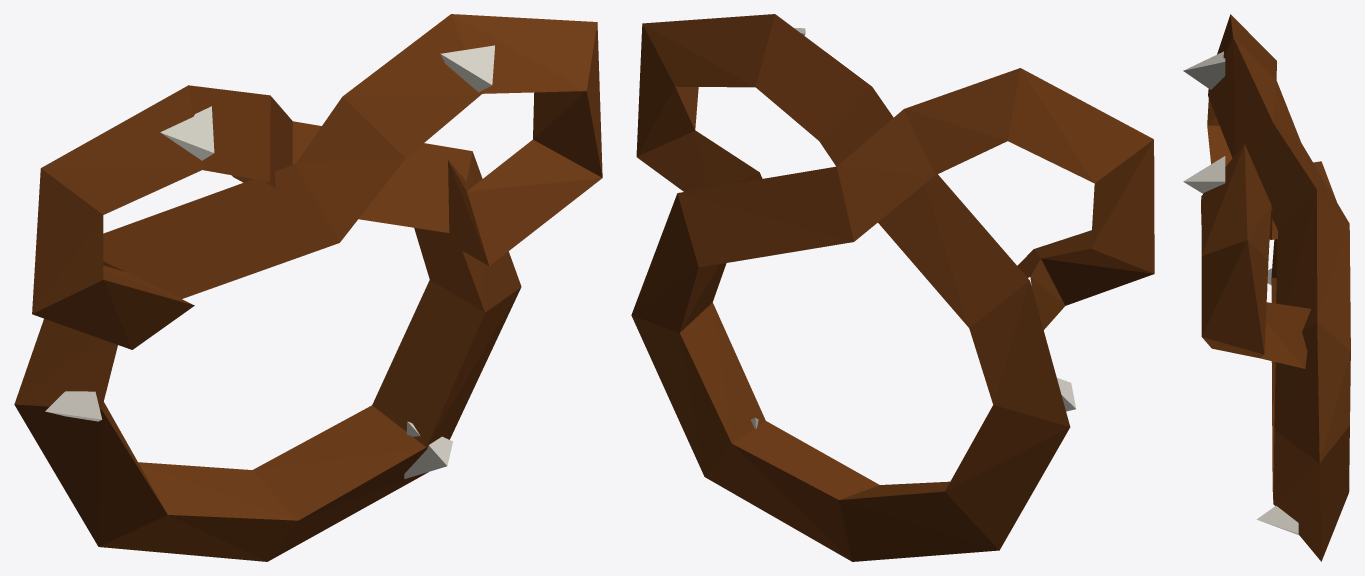
File: pretzel-87bccd.glb
The picture shows the model from 3 angles, left to right: view 1: azimuth 30°, elevation 25°; view 2: azimuth 150°, elevation 25°; view 3: azimuth 270°, elevation 25°; orthographic projection. The views are drawn at different scales.
Parts seen in each view (by area): view 1: pretzel_body; view 2: pretzel_body; view 3: pretzel_body.
Boxes of the visible parts, x1,y1,x2,y2 form: pretzel_body: (14, 14, 602, 561); pretzel_body: (631, 14, 1154, 561); pretzel_body: (1183, 14, 1350, 561).
Bounding box in the file's own units: 0.1361 × 0.1251 × 0.0424.
